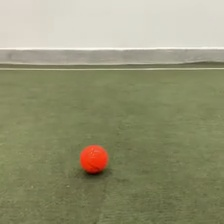ball: (78, 142, 108, 175)
